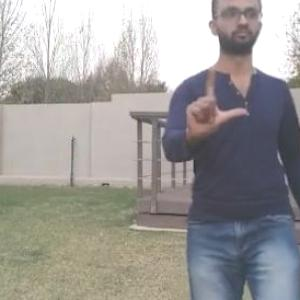land_hand: (175, 64, 245, 148)
